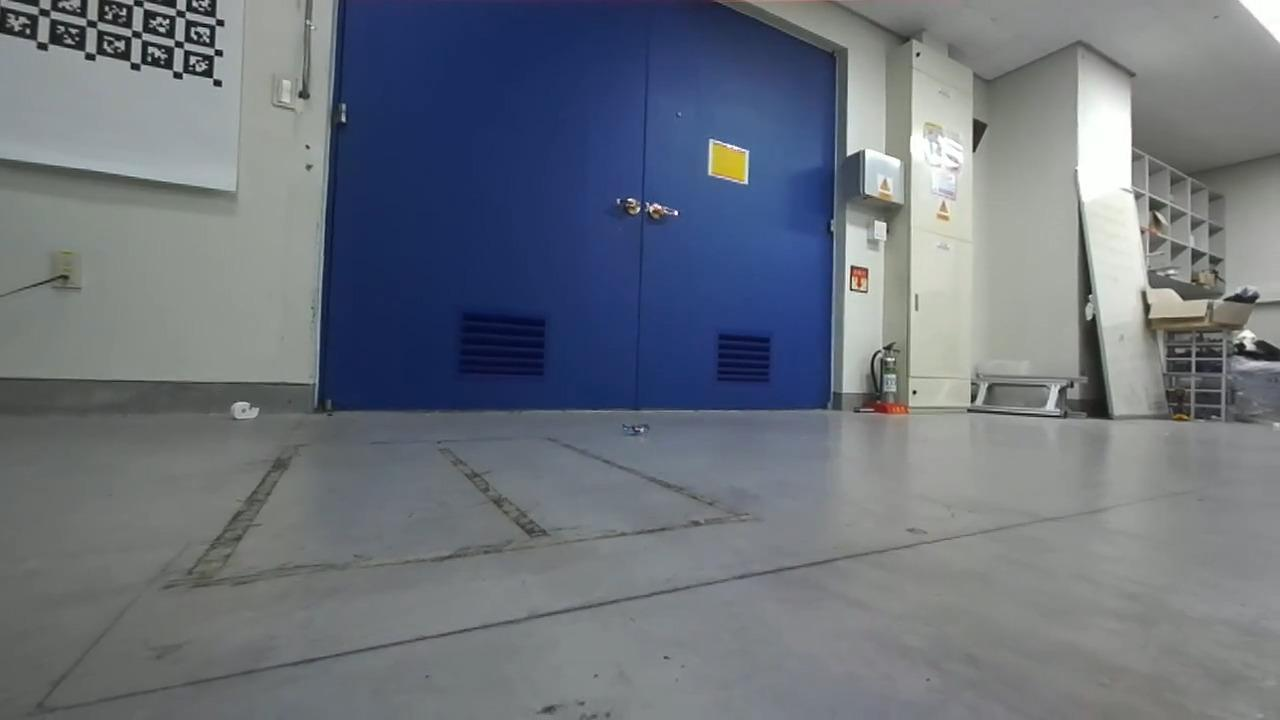crazyflie: (610, 415, 662, 442)
